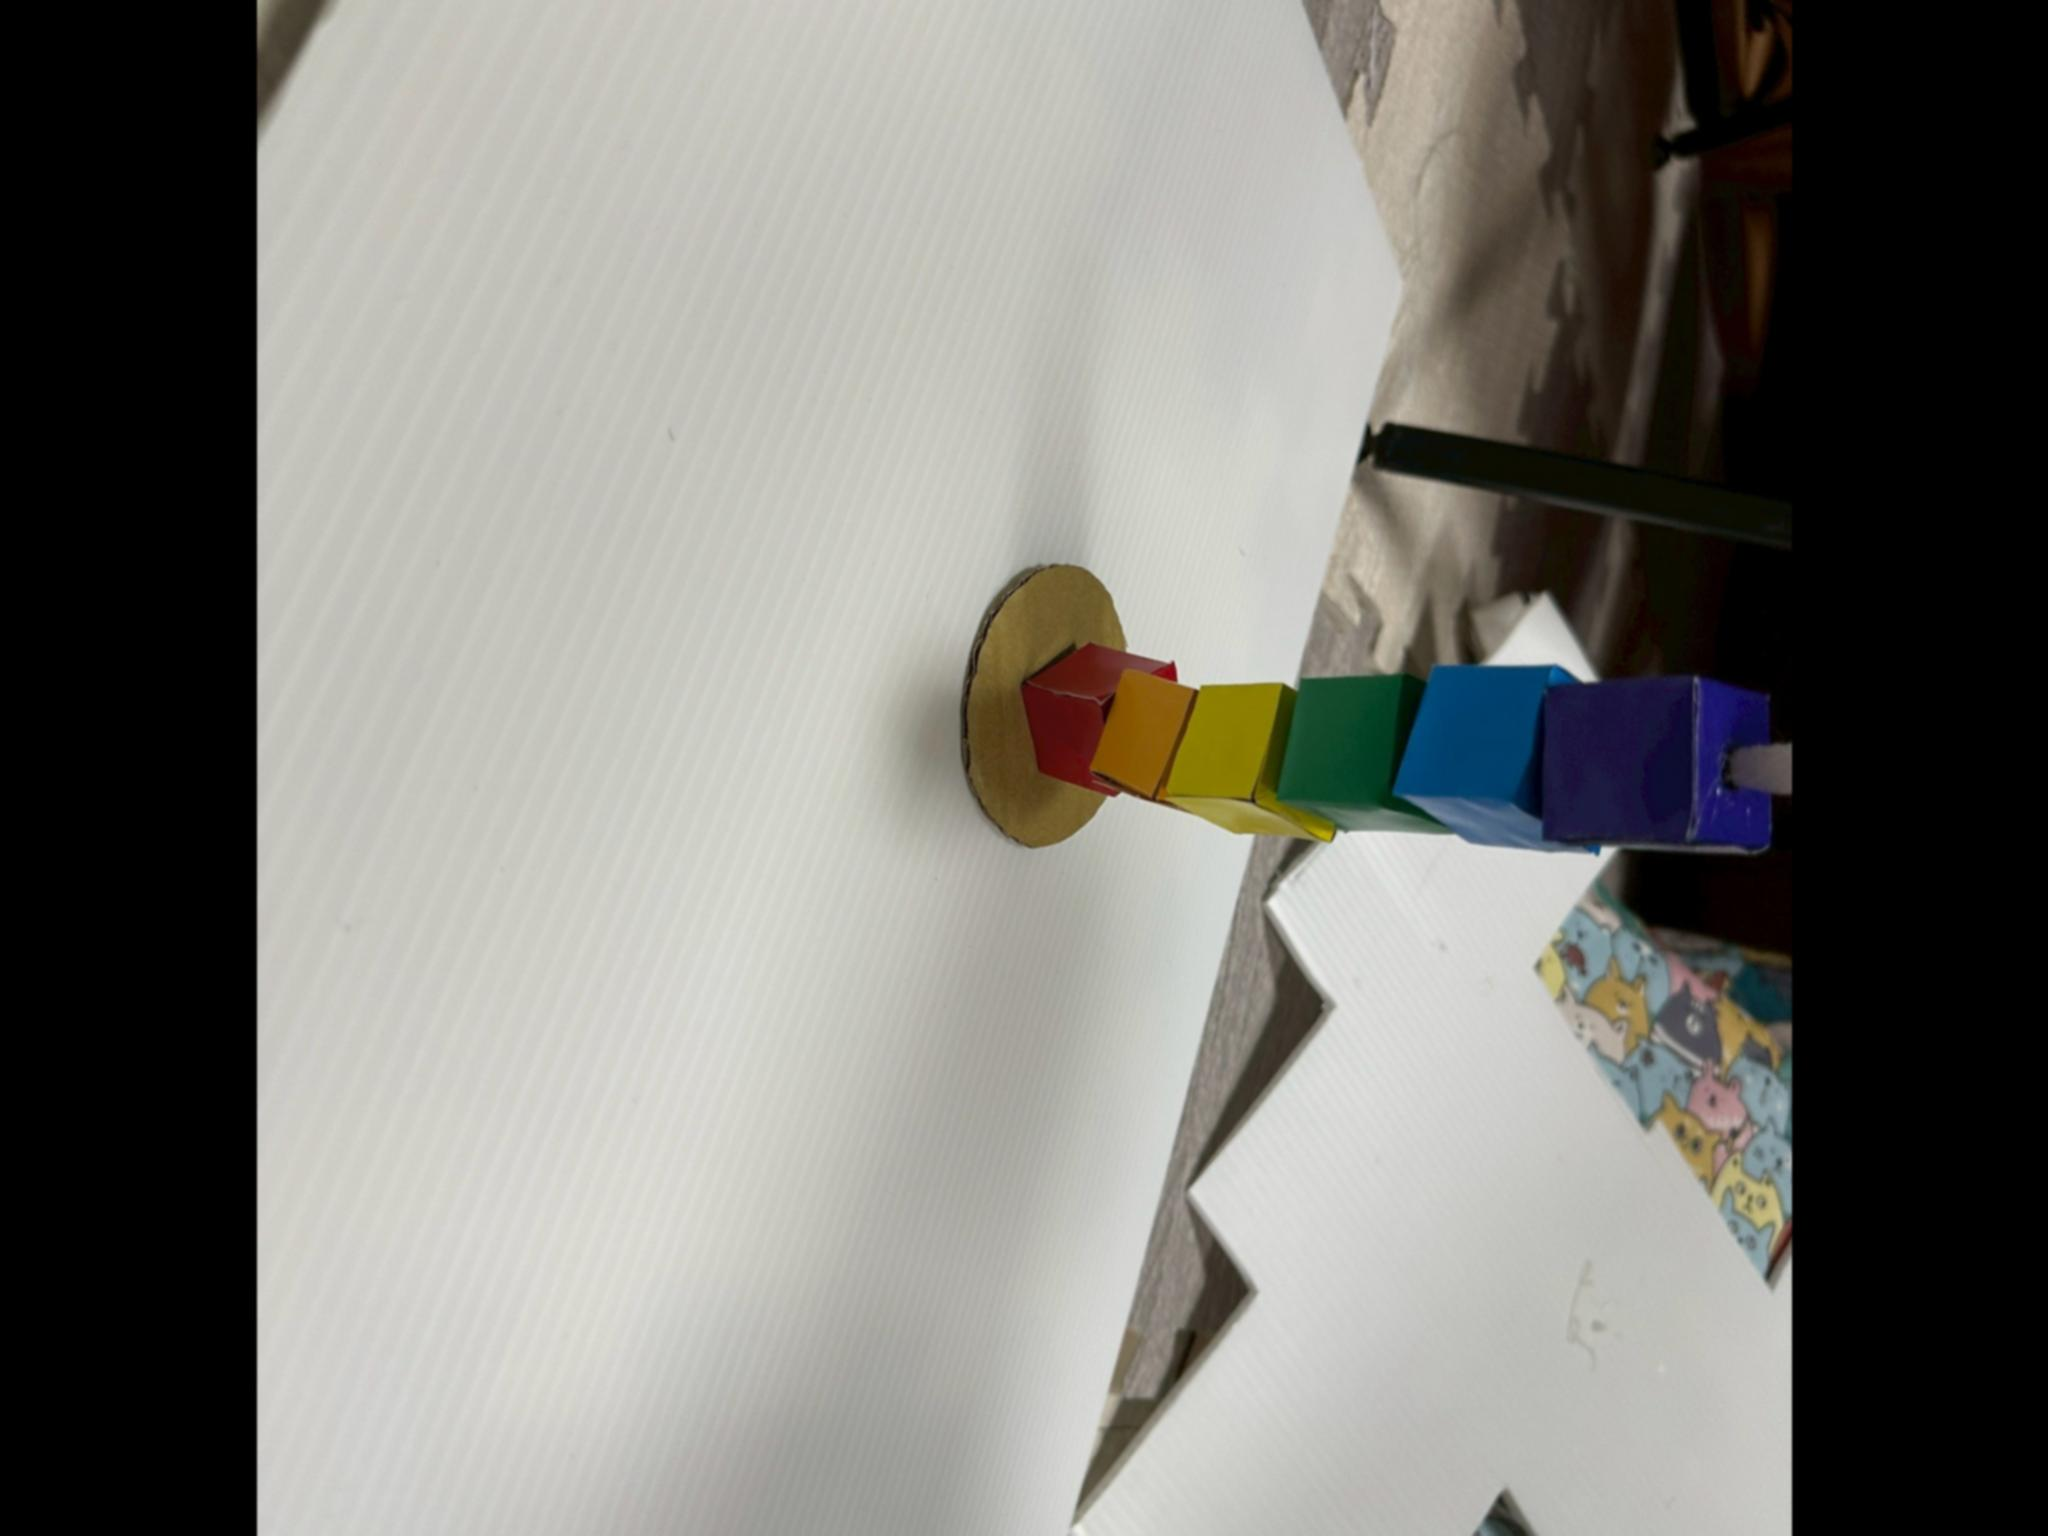base: (961, 563, 1124, 849)
cube: (1540, 676, 1767, 850), (1393, 666, 1601, 854), (1159, 682, 1335, 841), (1277, 674, 1448, 833), (1021, 644, 1174, 797), (1092, 670, 1197, 807)
